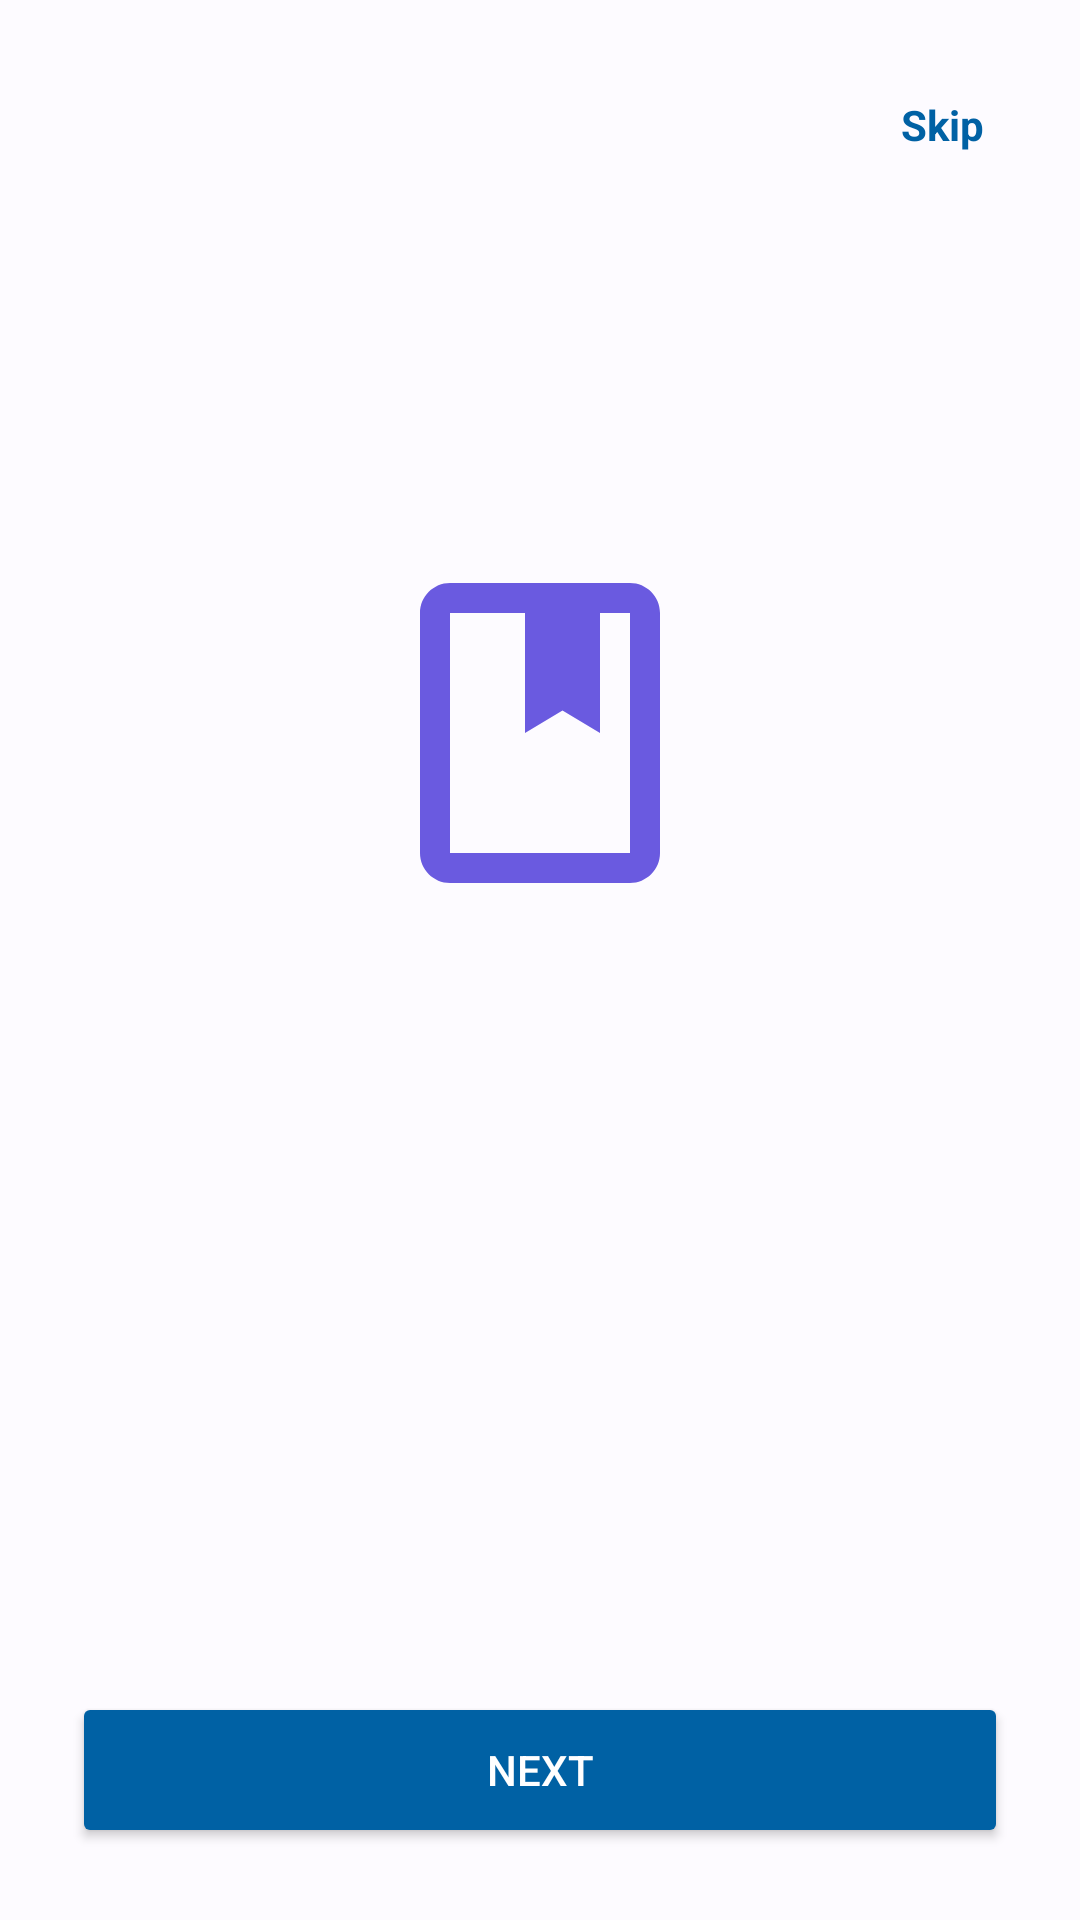

Icons on this 1080 x 1920 Android screen, each with the point to tap as point (x, y):
journal book: point (540, 733)
